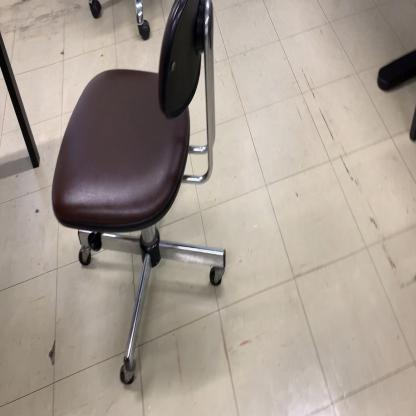chair: (49, 0, 228, 389)
